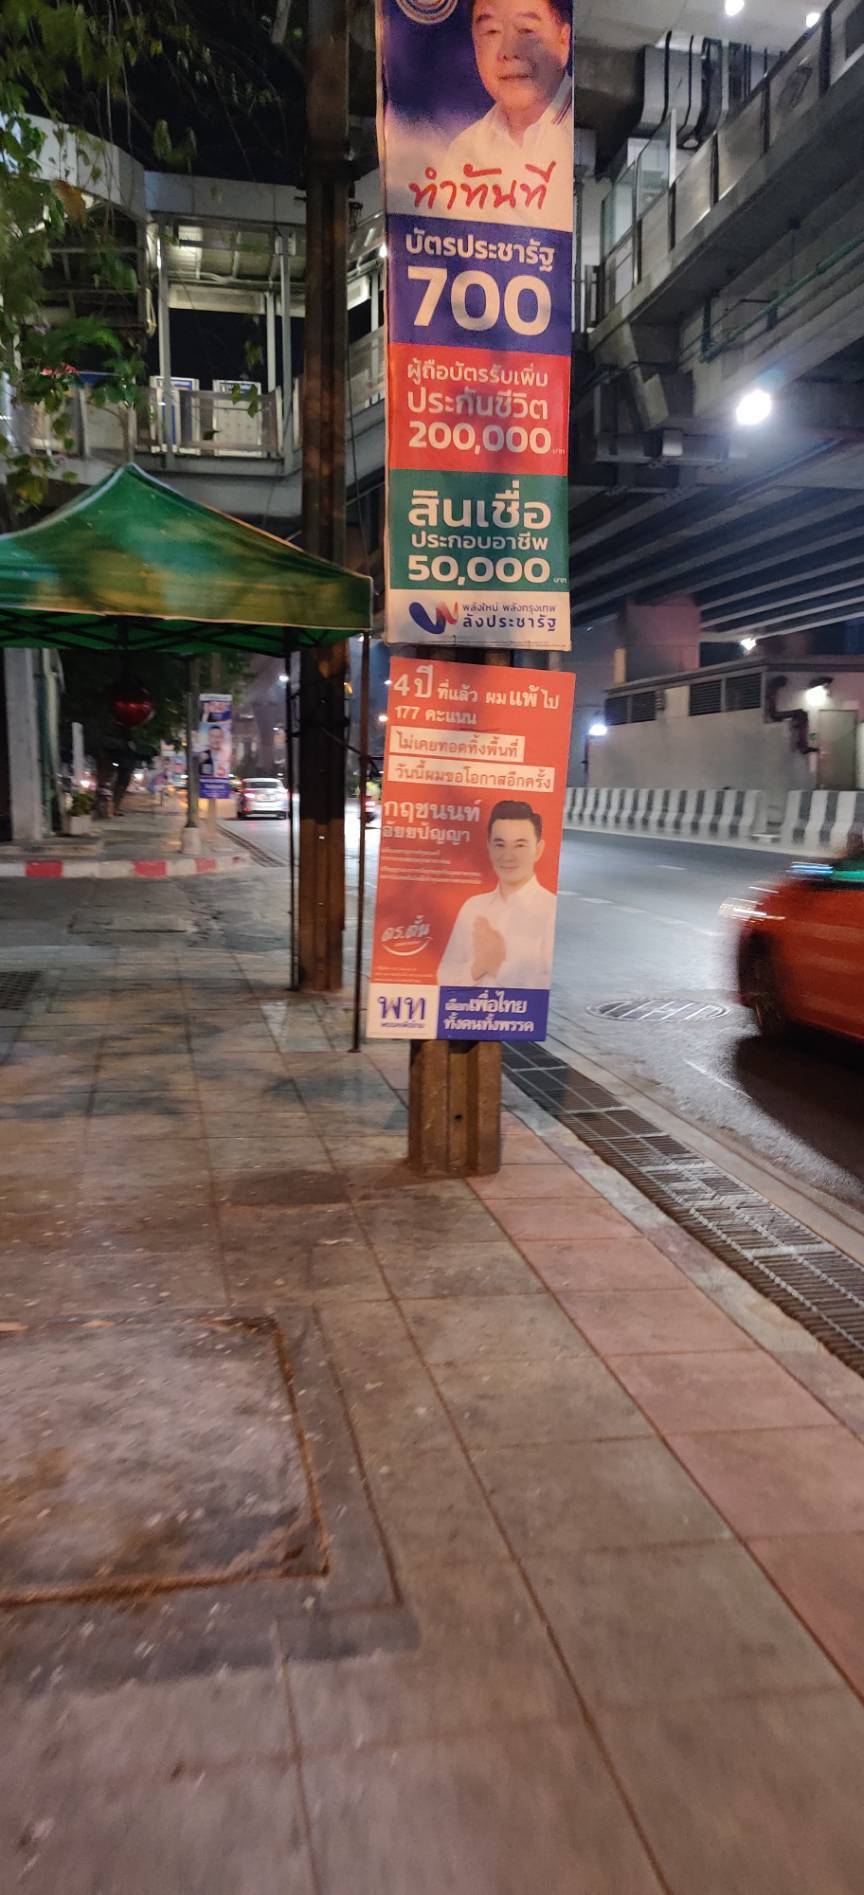Banner: (373, 0, 572, 651), (363, 666, 567, 1043)
